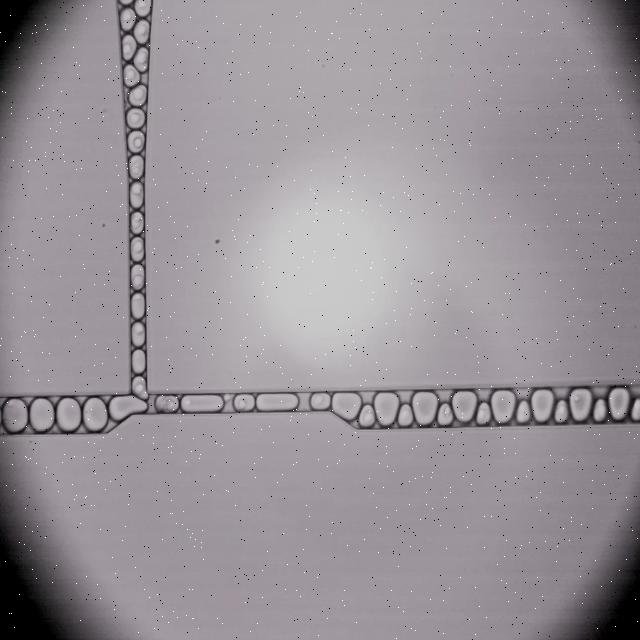L: (128, 84, 147, 106), (156, 395, 179, 412), (120, 7, 136, 30), (131, 349, 146, 373), (359, 405, 375, 427), (437, 404, 453, 426), (128, 131, 144, 153), (131, 293, 145, 318), (398, 404, 413, 427), (134, 20, 149, 43), (129, 155, 144, 178), (127, 109, 145, 128), (130, 182, 143, 208), (130, 237, 144, 261), (131, 322, 145, 346), (124, 64, 139, 86), (123, 35, 136, 60), (131, 264, 144, 289), (311, 393, 330, 410), (235, 395, 255, 411), (132, 377, 147, 398), (477, 402, 491, 424), (593, 399, 607, 421), (134, 48, 148, 70), (555, 400, 568, 423), (517, 401, 530, 423), (130, 213, 144, 233), (135, 0, 151, 16), (631, 398, 640, 421)
S: (109, 395, 147, 421), (412, 391, 438, 425), (3, 398, 28, 433), (56, 398, 81, 431), (374, 393, 399, 426), (83, 397, 107, 431), (30, 399, 54, 432), (491, 390, 515, 423), (332, 393, 361, 420), (452, 391, 477, 421), (569, 388, 591, 421), (181, 395, 223, 412), (256, 394, 298, 411), (532, 389, 554, 421), (608, 388, 630, 420)
